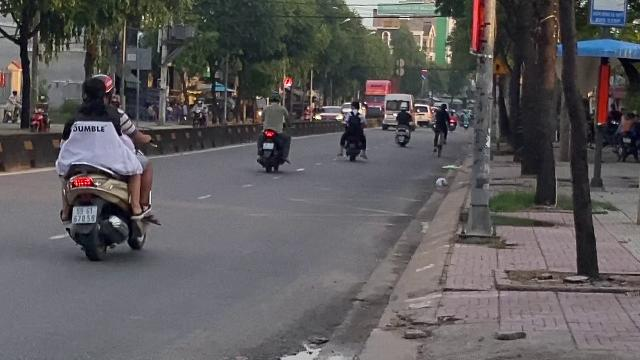helmet: (94, 72, 116, 104)
licenseplate: (72, 206, 96, 222)
motorcyclist: (51, 70, 159, 262)
nohelmet: (79, 78, 107, 110)
